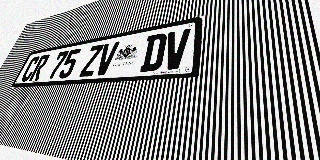5: (57, 48, 81, 79)
7: (46, 51, 69, 80)
C: (19, 56, 41, 82)
D: (139, 32, 168, 72)
R: (28, 54, 51, 81)
V: (161, 28, 191, 70), (94, 41, 120, 76)
Z: (79, 44, 104, 77)
